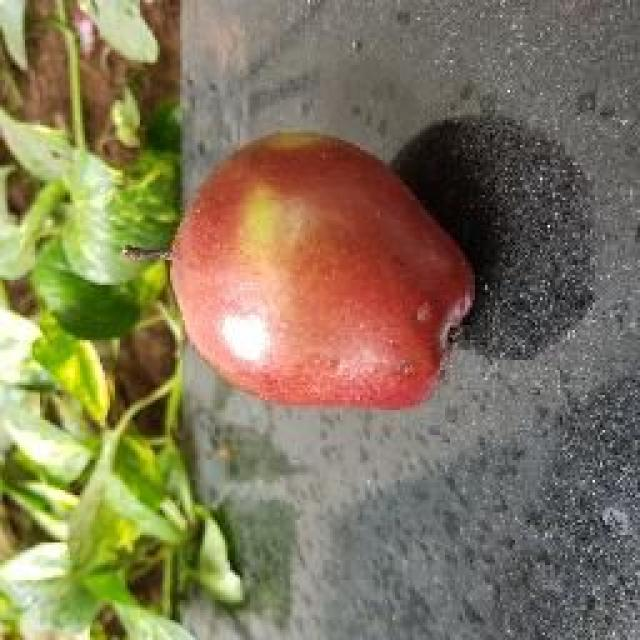Good_Apple: (170, 130, 475, 410)
